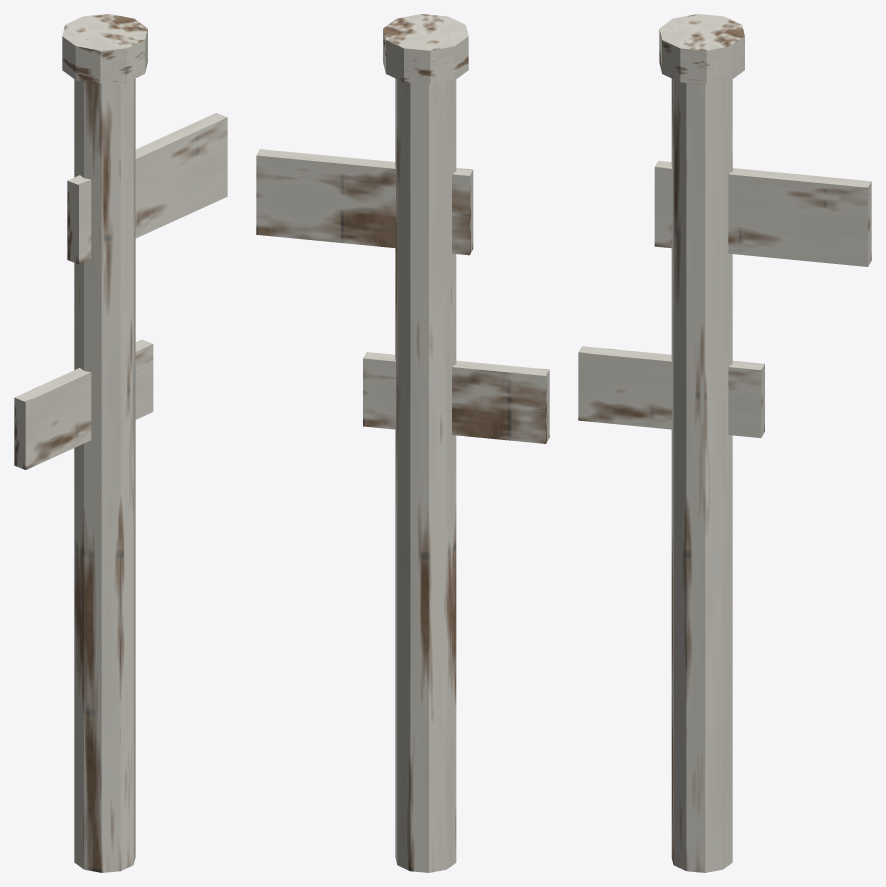
File: signpost.glb
The picture shows the model from 3 angles, left to right: view 1: azimuth 30°, elevation 25°; view 2: azimuth 150°, elevation 25°; view 3: azimuth 330°, elevation 25°; orthographic projection.
Parts seen in each view (by area): view 1: Sign_Post, Sign_Plank1, Sign_Plank2, Sign_Cap; view 2: Sign_Post, Sign_Plank1, Sign_Plank2, Sign_Cap; view 3: Sign_Post, Sign_Plank1, Sign_Plank2, Sign_Cap.
Part boxes in pixels (<box>): Sign_Post: <box>74,78,135,872</box>; Sign_Plank1: <box>67,113,227,264</box>; Sign_Plank2: <box>14,339,153,469</box>; Sign_Cap: <box>62,14,147,84</box>; Sign_Post: <box>395,78,456,872</box>; Sign_Plank1: <box>256,149,473,255</box>; Sign_Plank2: <box>363,352,549,443</box>; Sign_Cap: <box>383,14,468,84</box>; Sign_Post: <box>671,78,732,872</box>; Sign_Plank1: <box>654,161,871,266</box>; Sign_Plank2: <box>578,346,764,437</box>; Sign_Cap: <box>659,14,744,84</box>.
Bounding box in the file's own units: 0.4612 × 1.46 × 0.1643.
1 material, 1 textured.
